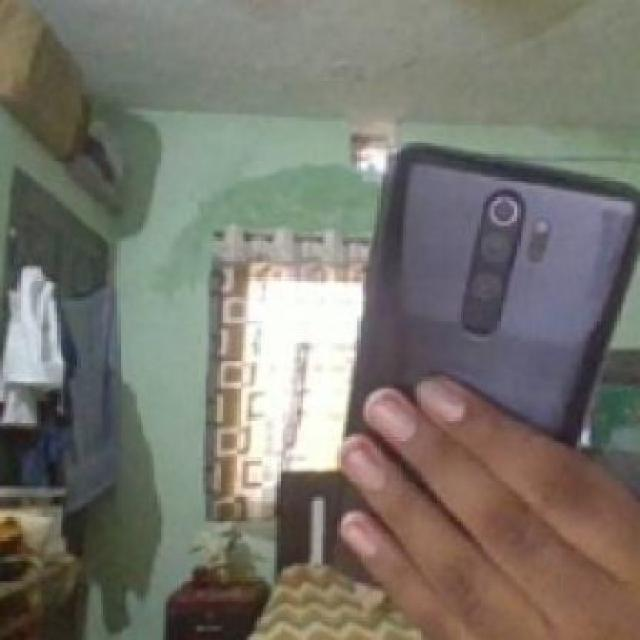Phone: (333, 136, 640, 578)
